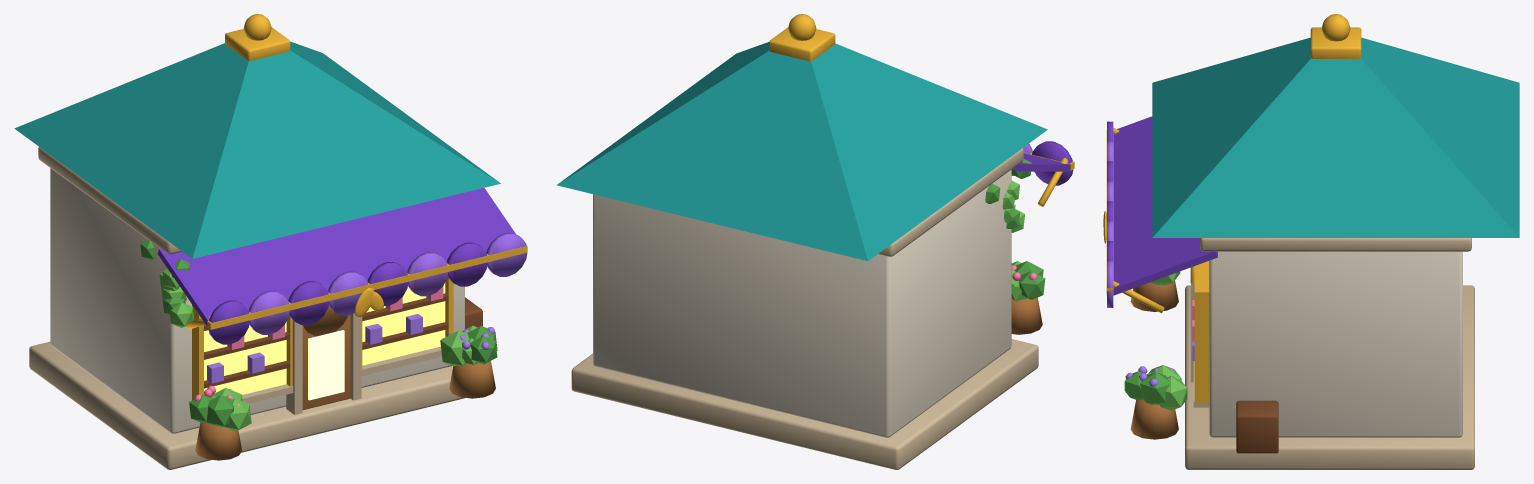
File: mag.glb
3 views of the same model, side by side, from view 1: azimuth 30°, elevation 25°; view 2: azimuth 150°, elevation 25°; view 3: azimuth 270°, elevation 25° (orthographic). The views are drawn at different scales.
Parts seen in each view (by area): view 1: Mag.001; view 2: Mag.001; view 3: Mag.001.
Boxes of the visible parts, x1=… form: Mag.001: x1=14, y1=14, x2=527, y2=469; Mag.001: x1=557, y1=14, x2=1074, y2=469; Mag.001: x1=1103, y1=14, x2=1519, y2=469.
Bounding box in the file's own units: 3.35 × 3.42 × 3.45.
